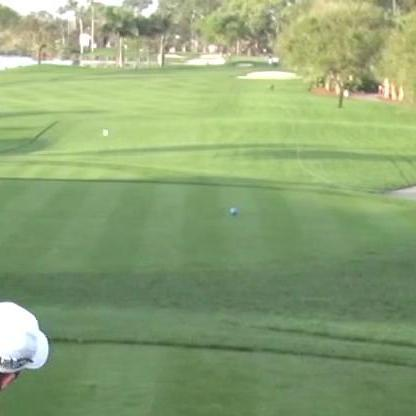golfball: (99, 127, 108, 136)
